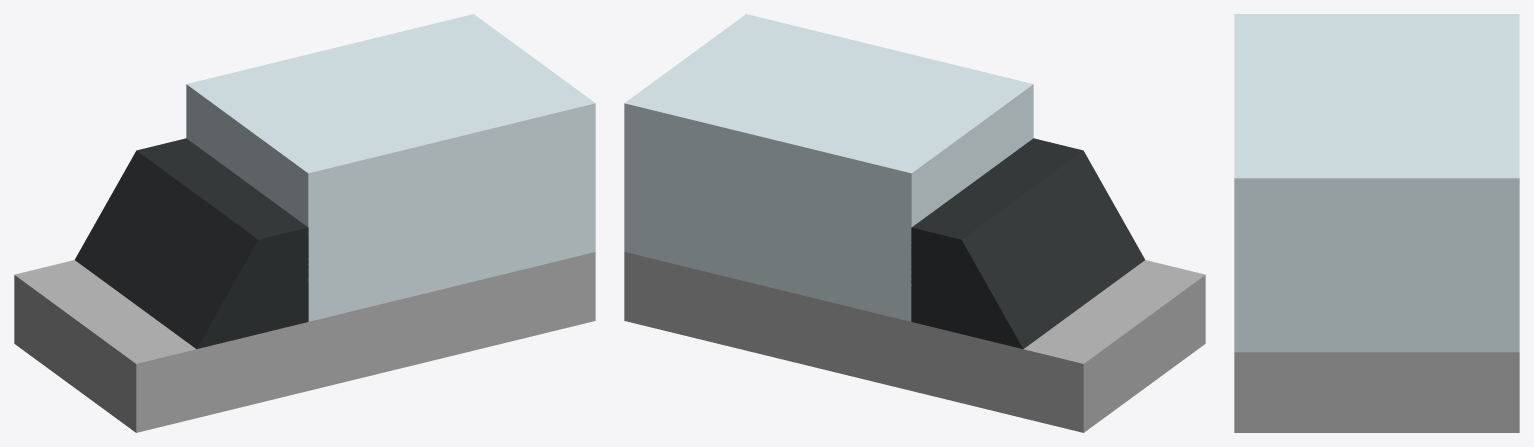
The model's file is ambulance.fbx.
3 views of the same model, side by side, from view 1: azimuth 30°, elevation 25°; view 2: azimuth 150°, elevation 25°; view 3: azimuth 270°, elevation 25° (orthographic). The views are drawn at different scales.
Parts seen in each view (by area): view 1: ambulance; view 2: ambulance; view 3: ambulance.
Boxes of the visible parts, x1,y1,x2,y2 form: ambulance: (14, 14, 595, 432); ambulance: (624, 14, 1205, 432); ambulance: (1234, 14, 1519, 432).
Bounding box in the file's own units: 13.94 × 6.41 × 6.31.
